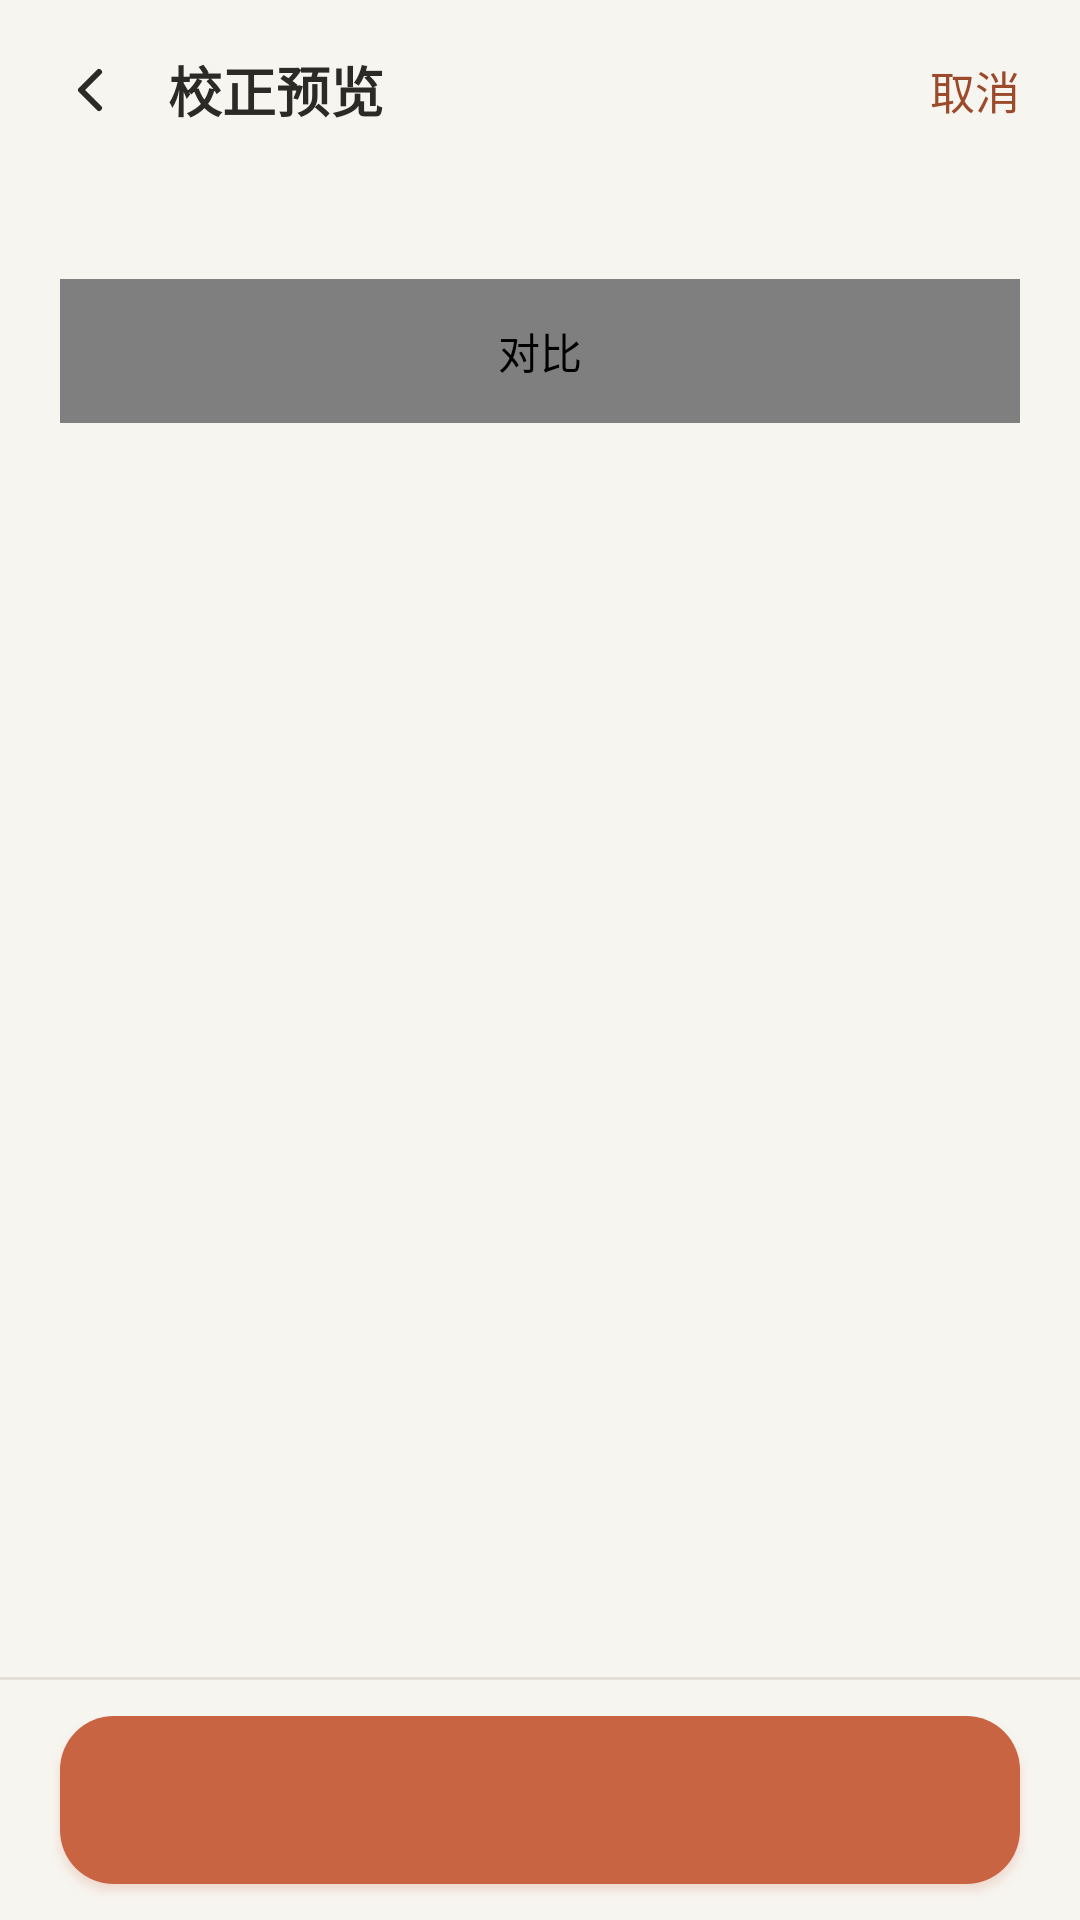

Named icons in this screenshot (1080px×1920px) and their centers, (x=x, y=y):
返回: (x=90, y=90)
